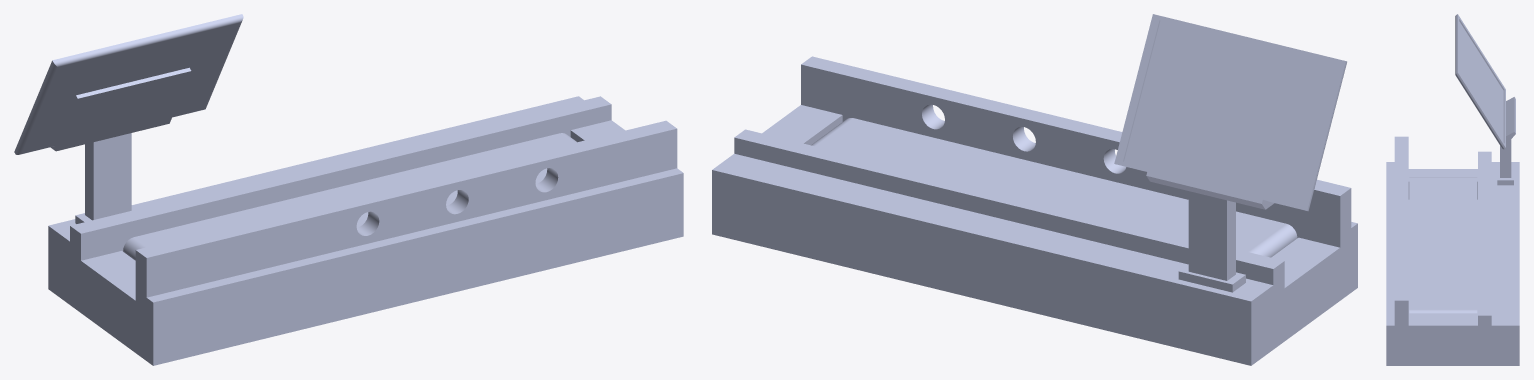
File: conveyer belt.fbx
3 views of the same model, side by side, from view 1: azimuth 30°, elevation 25°; view 2: azimuth 150°, elevation 25°; view 3: azimuth 270°, elevation 25° (orthographic). The views are drawn at different scales.
Visible parts, largest first — view 1: conveyor's base-1 - Part, screen-2 - Part, pt3 conveyer-1 - Part; view 2: conveyor's base-1 - Part, screen-2 - Part, pt3 conveyer-1 - Part; view 3: conveyor's base-1 - Part, pt3 conveyer-1 - Part, screen-2 - Part.
Part boxes in pixels (x1,y1,x2,y2): conveyor's base-1 - Part: [48, 67, 683, 365]; screen-2 - Part: [14, 14, 243, 154]; pt3 conveyer-1 - Part: [123, 133, 576, 260]; conveyor's base-1 - Part: [712, 56, 1357, 365]; screen-2 - Part: [1114, 14, 1346, 211]; pt3 conveyer-1 - Part: [811, 118, 1297, 257]; conveyor's base-1 - Part: [1386, 97, 1519, 365]; pt3 conveyer-1 - Part: [1409, 177, 1477, 313]; screen-2 - Part: [1455, 14, 1505, 149].
Bounding box in the file's own units: 75.88 × 34.7 × 24.
